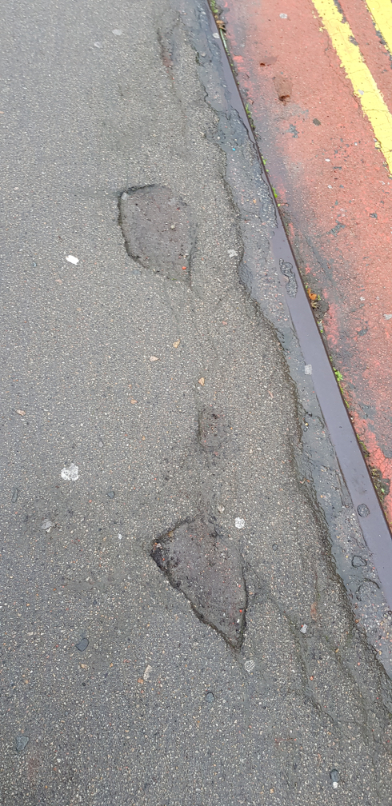pothole: (146, 512, 257, 650), (114, 181, 198, 287)
